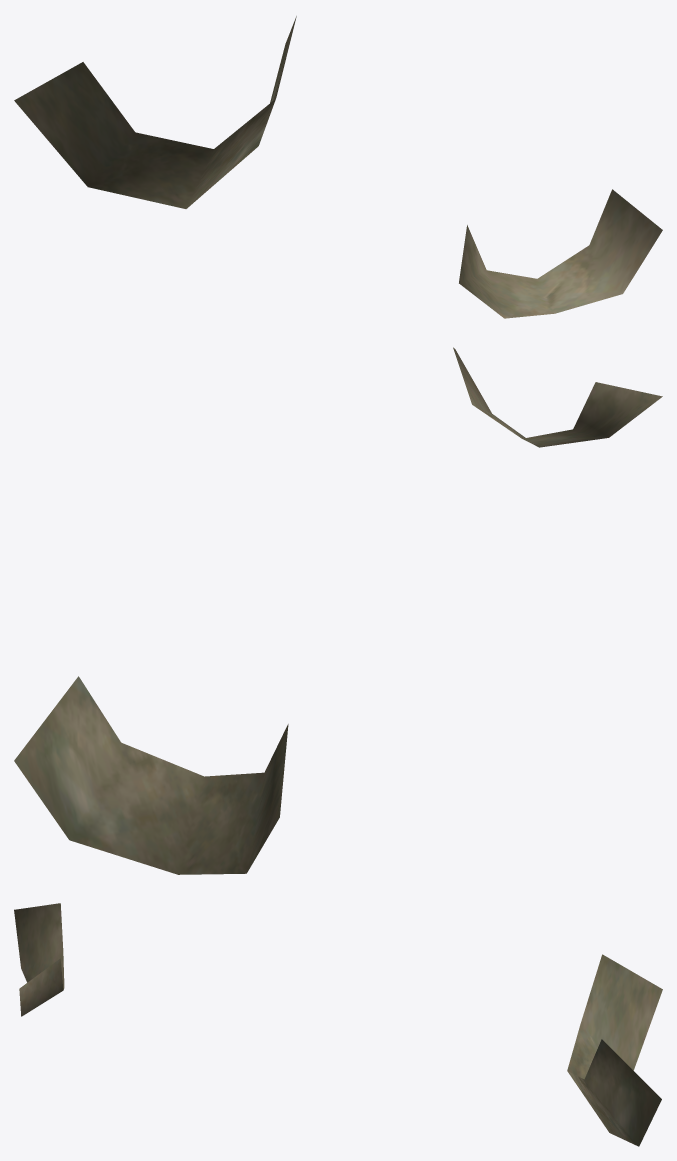
The model's file is EKH_CAVERNS_PS_CA_LINE325.fbx.
3 views of the same model, one above another, from view 1: azimuth 30°, elevation 25°; view 2: azimuth 150°, elevation 25°; view 3: azimuth 270°, elevation 25° (orthographic). The views are drawn at different scales.
Parts seen in each view (by area): view 1: EKH_CAVERNS_PS_CA_LINE325; view 2: EKH_CAVERNS_PS_CA_LINE325; view 3: EKH_CAVERNS_PS_CA_LINE325.
Boxes of the visible parts, x1,y1,x2,y2 form: EKH_CAVERNS_PS_CA_LINE325: (14, 16, 662, 318); EKH_CAVERNS_PS_CA_LINE325: (14, 347, 662, 874); EKH_CAVERNS_PS_CA_LINE325: (14, 903, 662, 1146).
Bounding box in the file's own units: 19102 × 17549 × 50948.
1 material, 1 textured.
